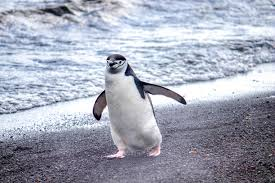Walking: (90, 42, 192, 171)
